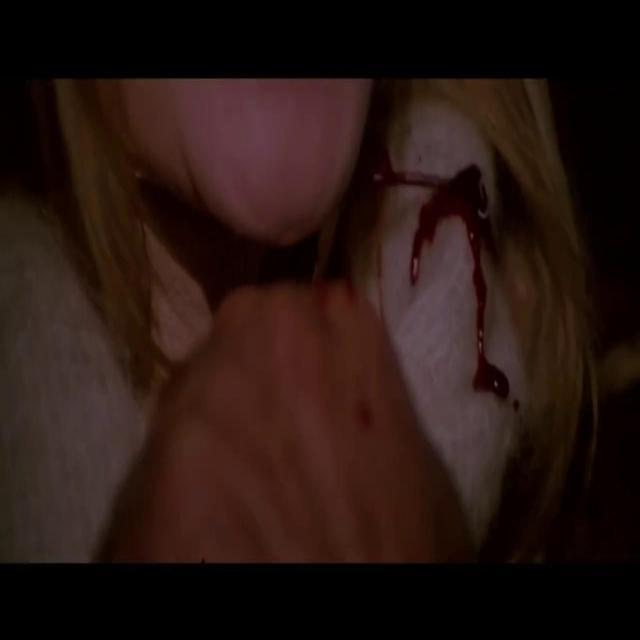flood: (410, 161, 510, 410)
